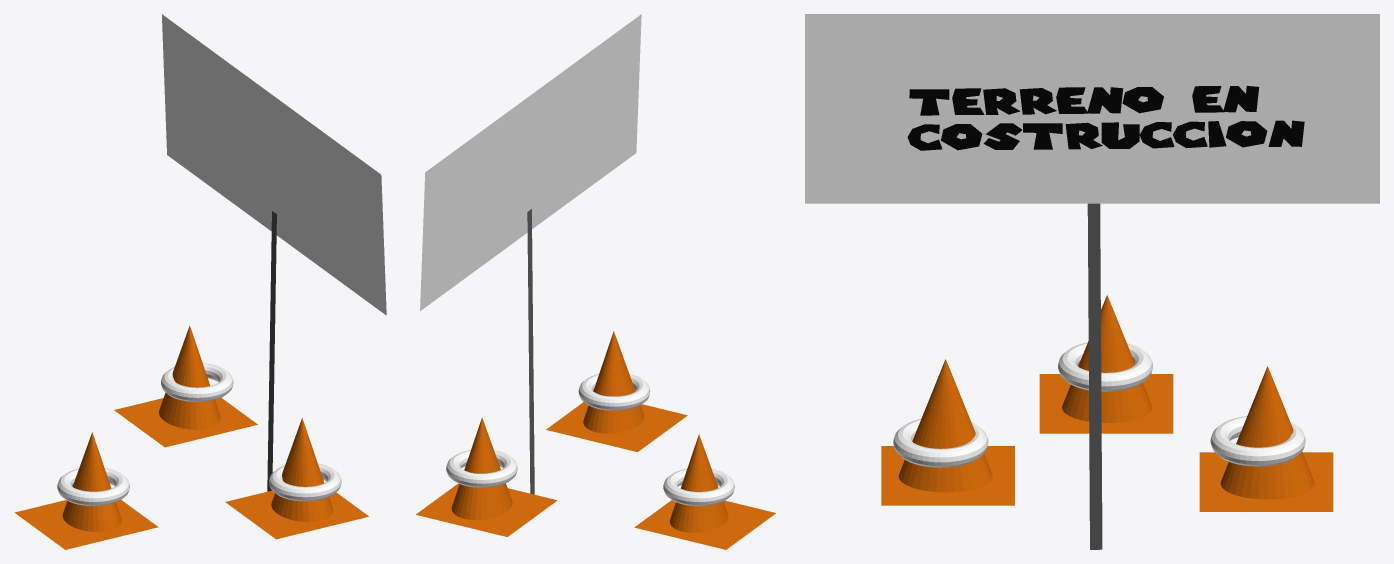
File: letrero grande.fbx
3 views of the same model, side by side, from view 1: azimuth 30°, elevation 25°; view 2: azimuth 150°, elevation 25°; view 3: azimuth 270°, elevation 25° (orthographic). The views are drawn at different scales.
Parts seen in each view (by area): view 1: Plano.001, Cono.001, Cono, Plano.004, Plano.003, Plano, Cono.002, Rosca.002, Rosca.001, Plano.002, Rosca; view 2: Plano.001, Cono.001, Cono, Plano.004, Plano, Plano.003, Cono.002, Rosca.001, Rosca.002, Plano.002, Rosca; view 3: Plano.001, Texto, Cono.001, Cono, Plano.002, Plano.003, Plano, Plano.004, Cono.002, Rosca.001, Rosca, Rosca.002.
Boxes of the visible parts, x1=… form: Plano.001: x1=162, y1=14, x2=386, y2=315; Cono.001: x1=159, y1=325, x2=220, y2=429; Cono: x1=271, y1=418, x2=333, y2=521; Plano.004: x1=14, y1=500, x2=158, y2=549; Plano.003: x1=114, y1=397, x2=257, y2=447; Plano: x1=225, y1=490, x2=368, y2=539; Cono.002: x1=62, y1=432, x2=121, y2=532; Rosca.002: x1=57, y1=468, x2=129, y2=506; Rosca.001: x1=161, y1=363, x2=233, y2=401; Plano.002: x1=267, y1=211, x2=276, y2=491; Rosca: x1=269, y1=463, x2=341, y2=501; Plano.001: x1=420, y1=14, x2=641, y2=310; Cono.001: x1=451, y1=417, x2=512, y2=520; Cono: x1=583, y1=331, x2=644, y2=433; Plano.004: x1=634, y1=500, x2=775, y2=549; Plano: x1=546, y1=402, x2=687, y2=451; Plano.003: x1=416, y1=483, x2=557, y2=536; Cono.002: x1=669, y1=434, x2=728, y2=532; Rosca.001: x1=446, y1=450, x2=517, y2=487; Rosca.002: x1=663, y1=468, x2=734, y2=506; Plano.002: x1=527, y1=209, x2=534, y2=494; Rosca: x1=578, y1=374, x2=650, y2=410; Plano.001: x1=805, y1=14, x2=1379, y2=203; Texto: x1=907, y1=86, x2=1304, y2=150; Cono.001: x1=1220, y1=366, x2=1314, y2=499; Cono: x1=898, y1=359, x2=992, y2=492; Plano.002: x1=1087, y1=203, x2=1102, y2=549; Plano.003: x1=1199, y1=452, x2=1333, y2=511; Plano: x1=881, y1=446, x2=1014, y2=505; Plano.004: x1=1039, y1=374, x2=1173, y2=433; Cono.002: x1=1062, y1=295, x2=1152, y2=422; Rosca.001: x1=1210, y1=416, x2=1305, y2=466; Rosca: x1=893, y1=419, x2=988, y2=467; Rosca.002: x1=1058, y1=342, x2=1152, y2=391.
Size of the model in its own units: 1007 by 1552 by 1507.
